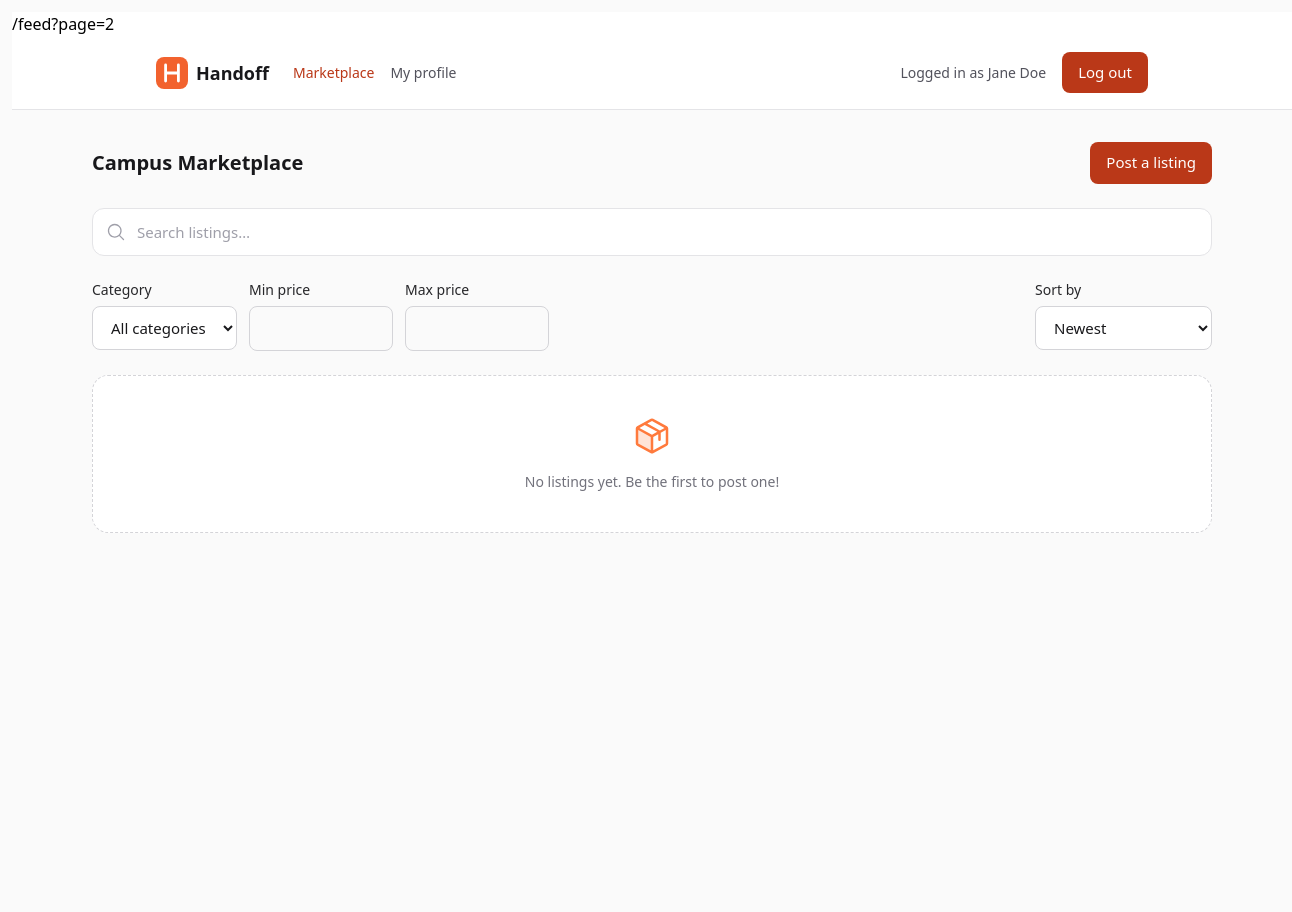
FeedPage › typing a new keyword resets to page 1
Type "lamp" into the search field labelled "Search listings" at (652, 232), box top-left (92, 208), bottom-right (1212, 256)
Then press Enter
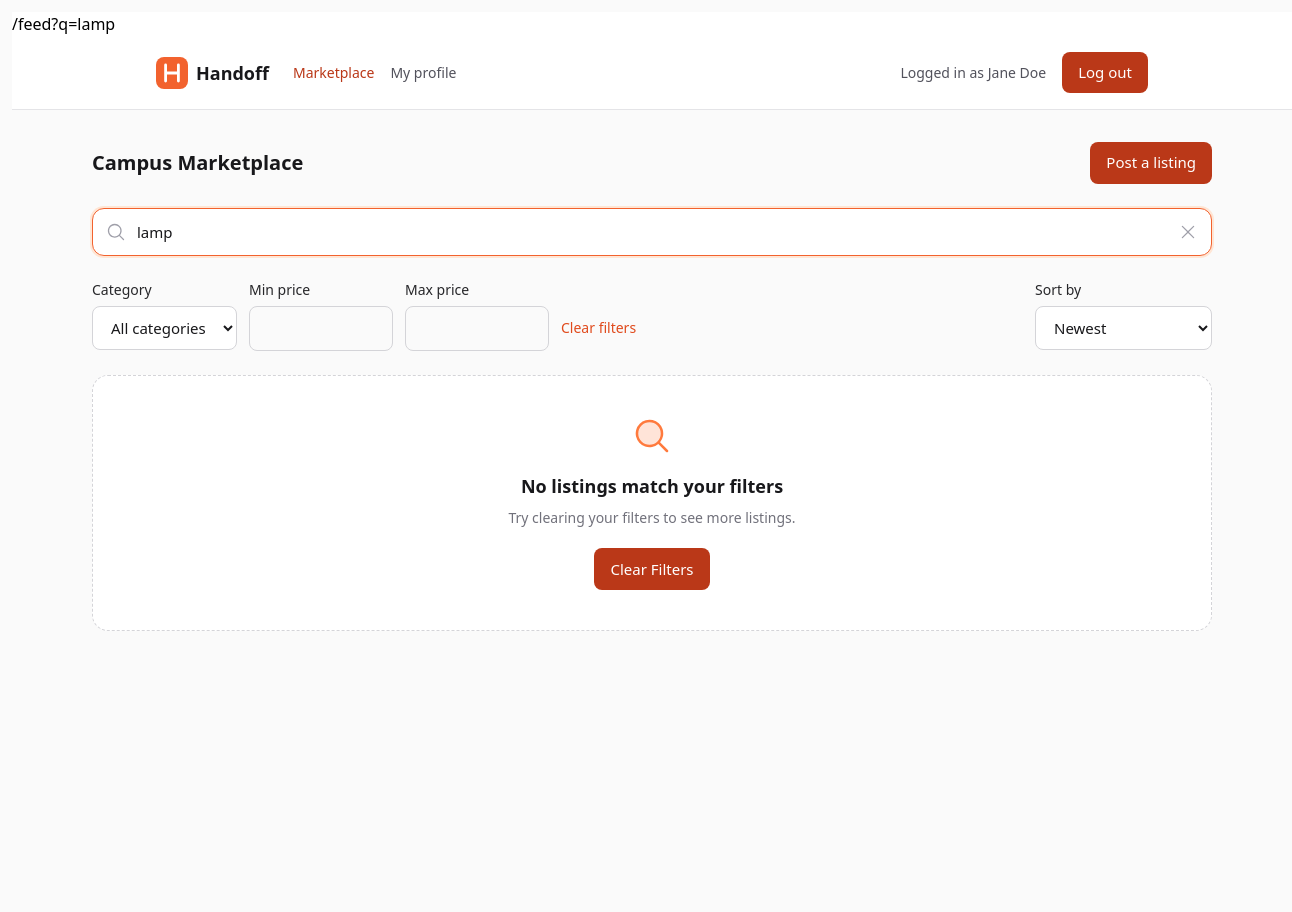
Result: the text with test id "location" reads "/feed?q=lamp" at top-left (12, 13), bottom-right (115, 35)
